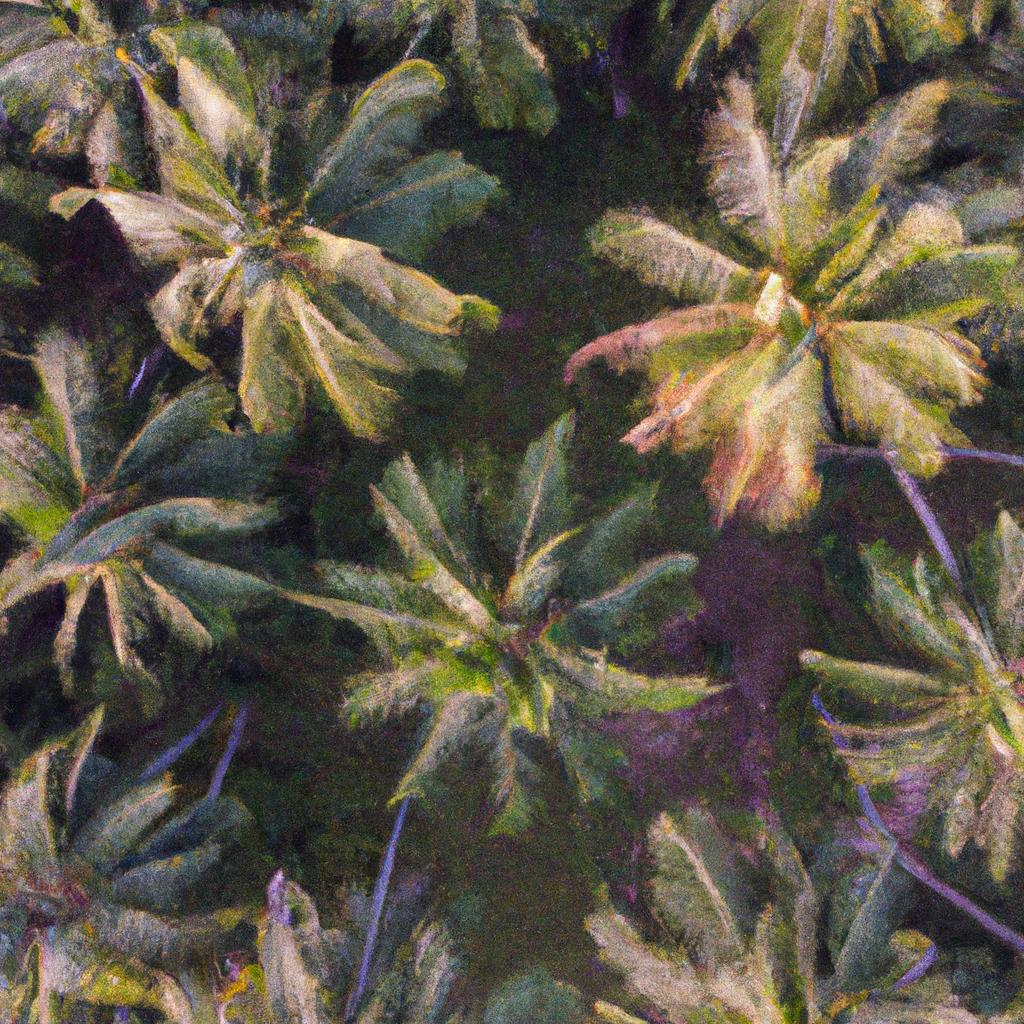coconut_tree: (580, 67, 1023, 539), (277, 418, 721, 840), (70, 42, 475, 423), (0, 339, 287, 797)
